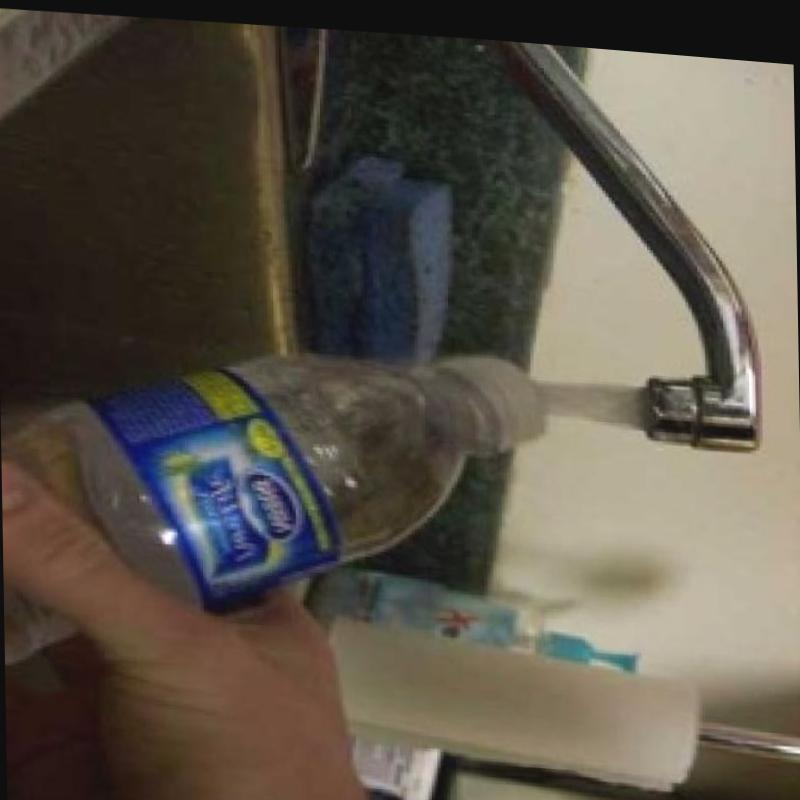botella: (0, 312, 552, 692)
